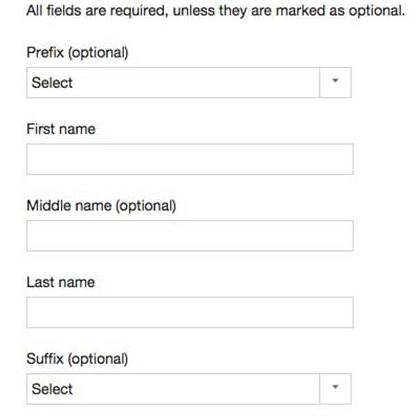field: (26, 294, 355, 329), (25, 65, 356, 99), (25, 141, 356, 175), (26, 218, 356, 252), (26, 371, 353, 405)
field_with_label: (20, 44, 360, 103), (22, 196, 358, 255), (23, 274, 359, 333), (22, 349, 356, 407), (21, 122, 360, 179)
